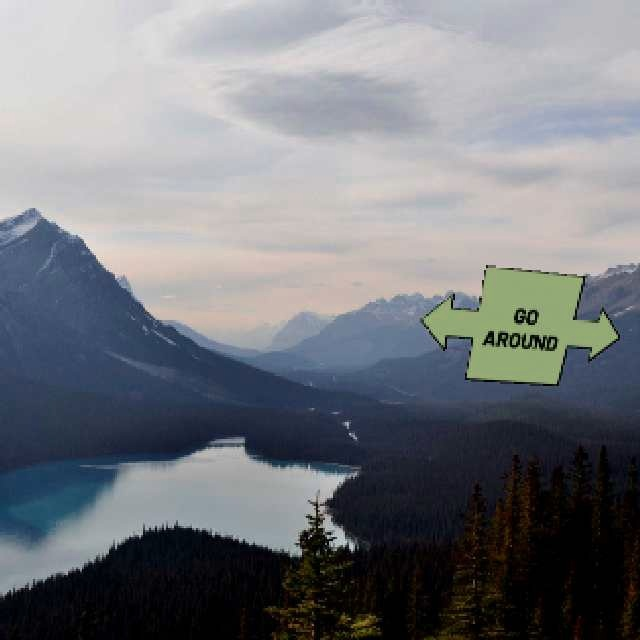GO_AROUND: (418, 263, 619, 384)
